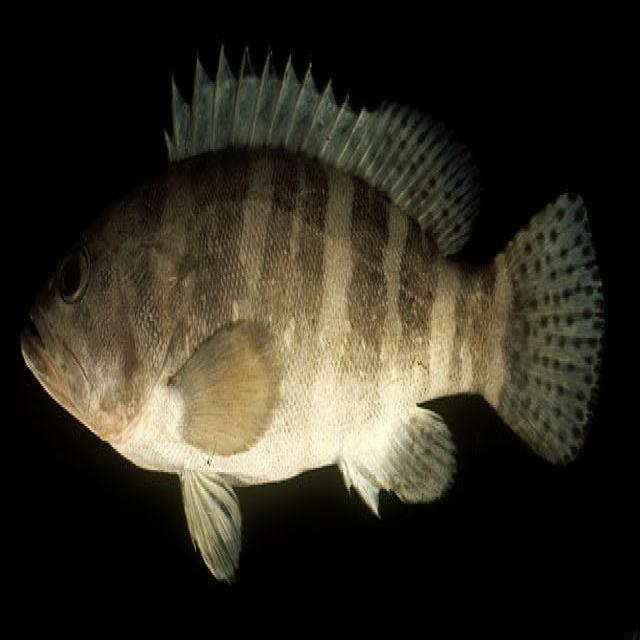ikan: (18, 40, 606, 585)
